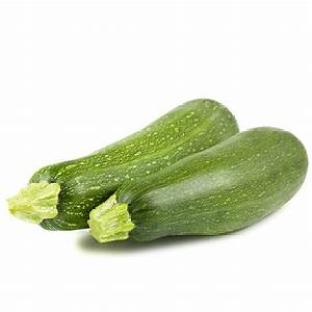Zucchini: (9, 99, 238, 229), (89, 128, 307, 242)
